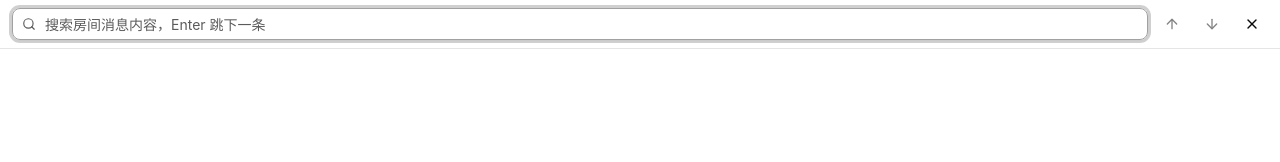
Test: RoomSearchBar（方案 v3 B-1） › Enter 跳下一条、Shift+Enter 跳上一条，计数跟着走
Type "缓存" into the field labelled "搜索房间消息内容" at (580, 24), box [12,8,1148,40]
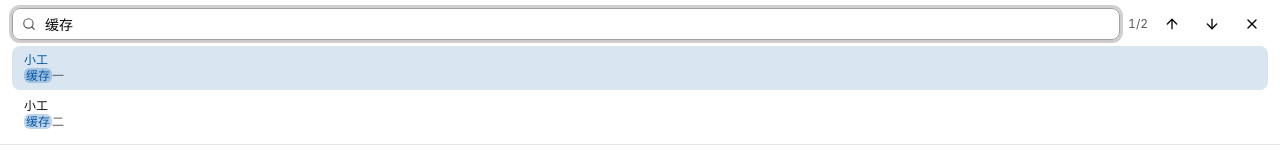
Press Enter in the field named "搜索房间消息内容", box [12,8,1120,40]
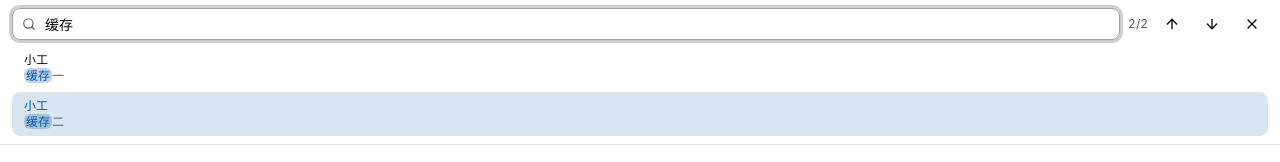
Check: the text "2/2" is shown, box [1128,16,1148,32]
Press Enter in the field named "搜索房间消息内容", box [12,8,1120,40]
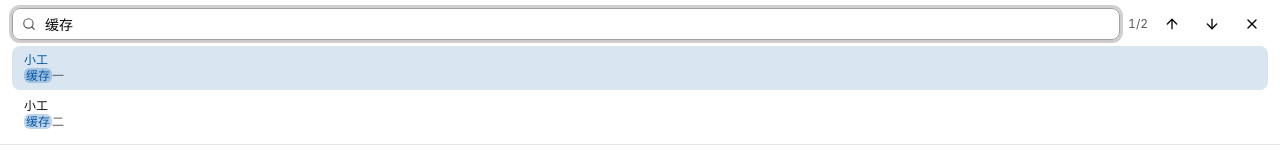
Check: the text "1/2" is shown, box [1128,16,1148,32]
